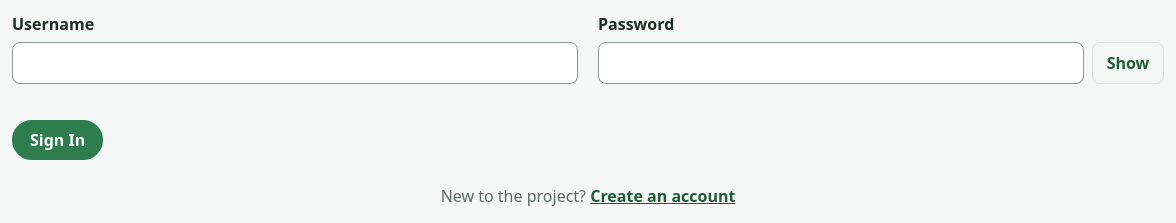
SignInForm › reveals and hides the password
The image size is (1176, 223).
Later steps or results of the test are not shown.
Click the button with aria-label "Show password" at point(1128, 63), box [1092, 42, 1164, 84]
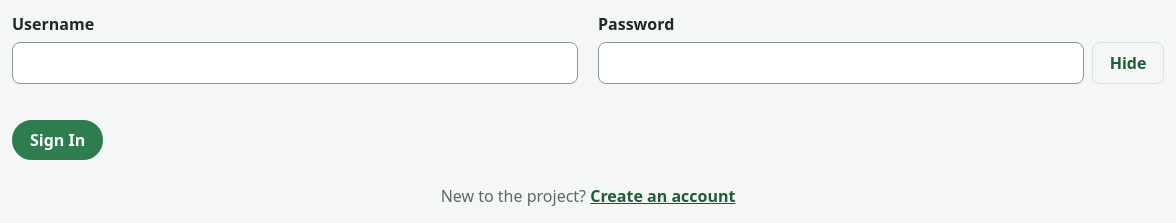
expect the button with aria-label "Hide password" is pressed: met, box [1092, 42, 1164, 84]
